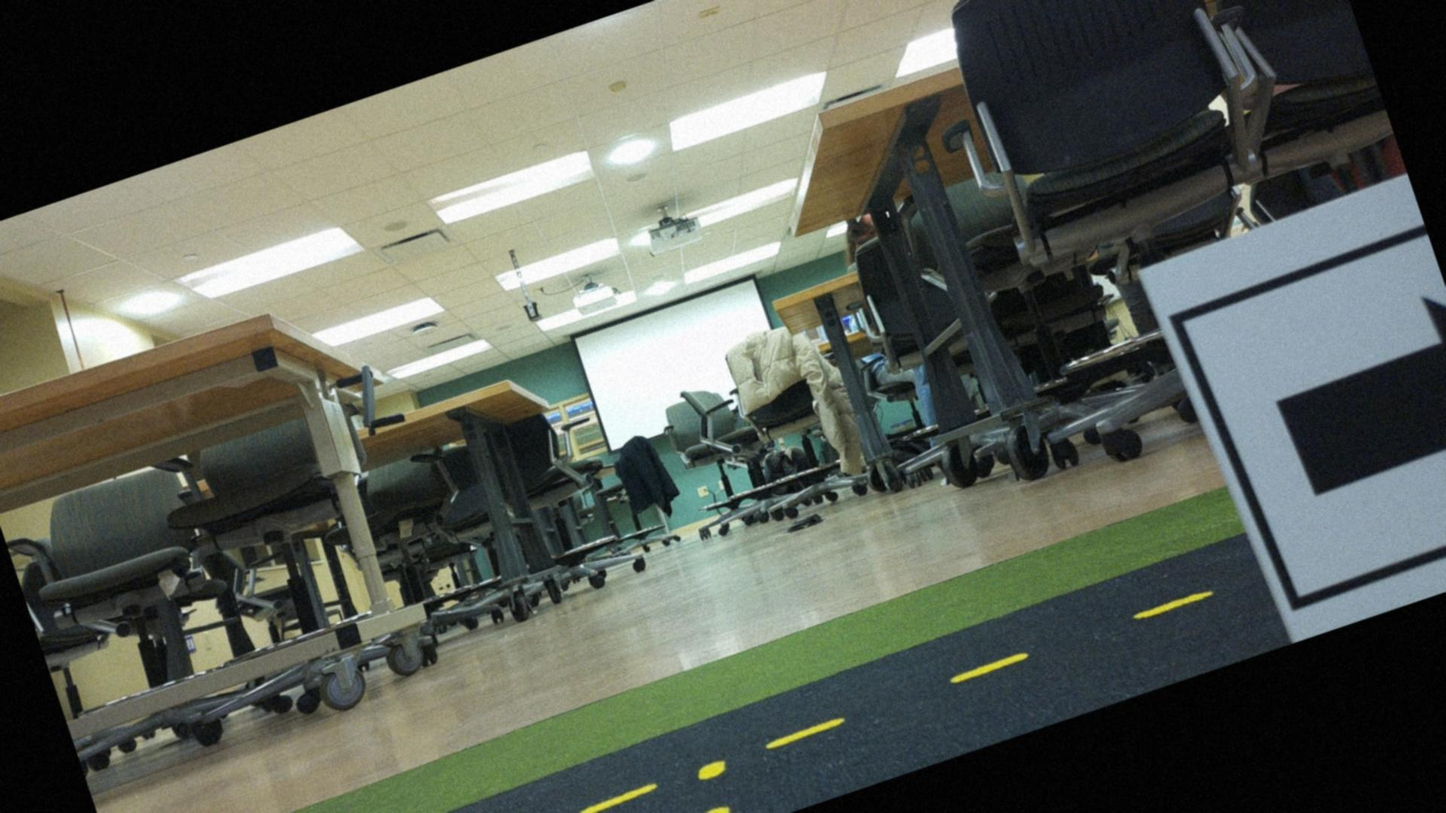yellowline: (164, 586, 1216, 812)
